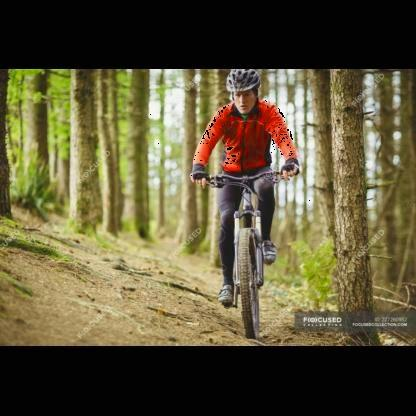Bicycle: (178, 156, 304, 343)
